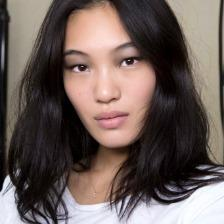Non hijab: (3, 0, 218, 224)
